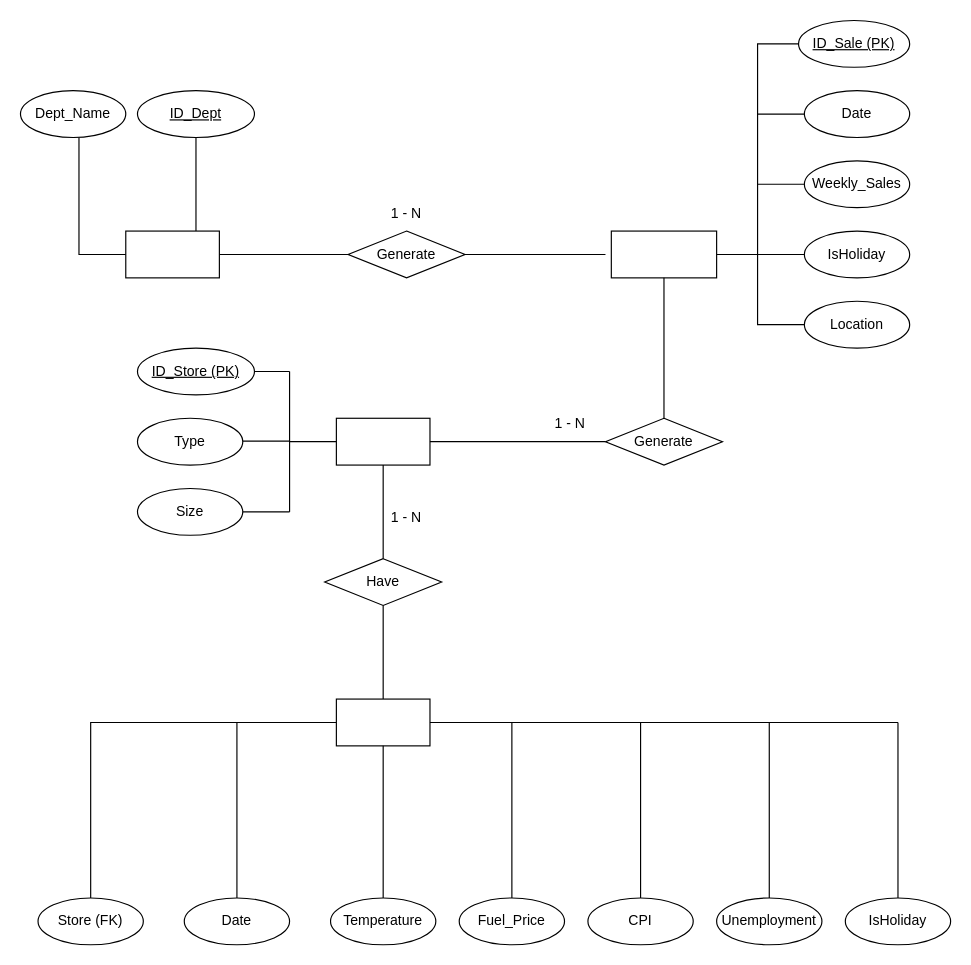
The diagram is 971 pixels wide and 965 high, and some of its shapes have lost their labels. The box of each missing label's shape, as (x1, y1, x2, y2) in pixels:
Departments: (125, 230, 219, 278)
Features: (335, 698, 430, 746)
Sales: (610, 230, 717, 278)
Stores: (335, 417, 430, 465)
